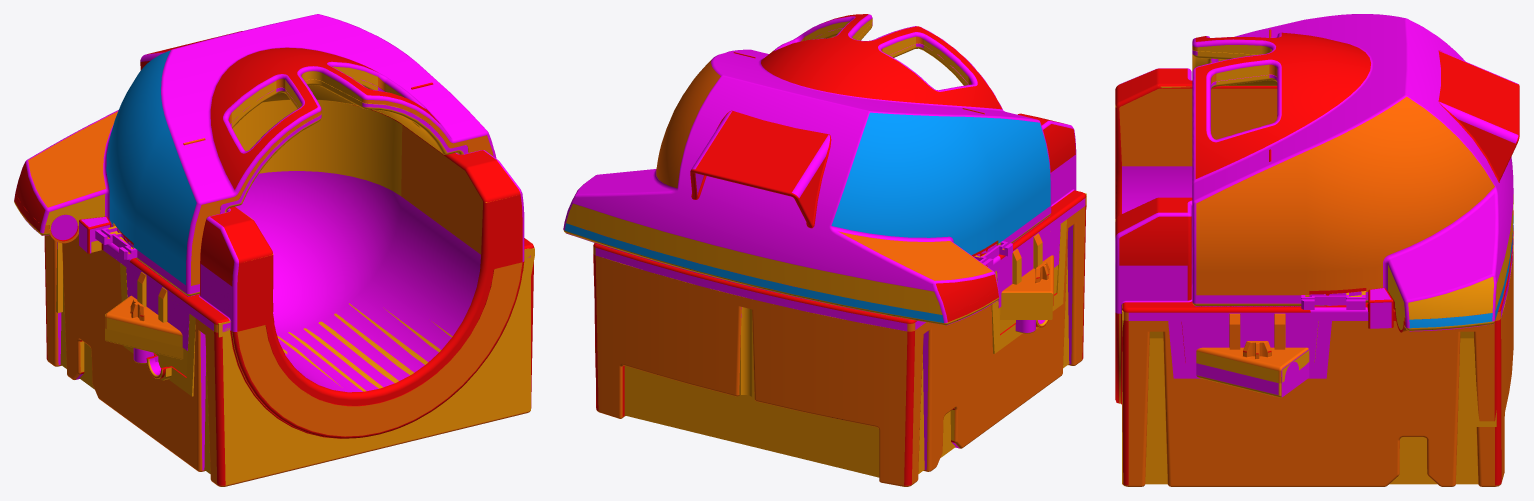
File: siemens32coals.fbx
3 views of the same model, side by side, from view 1: azimuth 30°, elevation 25°; view 2: azimuth 150°, elevation 25°; view 3: azimuth 270°, elevation 25° (orthographic). The views are drawn at different scales.
Visible parts, largest first — view 1: SH0002364383_00002, SH0002364383_00001, SH0002364383_00004, SH0002364383_00003; view 2: SH0002364383_00004, SH0002364383_00001, SH0002364383_00002, SH0002364383_00003; view 3: SH0002364383_00004, SH0002364383_00001, SH0002364383_00002, SH0002364383_00003.
Part boxes in pixels (box(x1,y1,x2,y2)): SH0002364383_00002: box(63, 100, 534, 484); SH0002364383_00001: box(44, 234, 534, 486); SH0002364383_00004: box(15, 14, 496, 296); SH0002364383_00003: box(14, 76, 468, 296); SH0002364383_00004: box(564, 14, 1051, 315); SH0002364383_00001: box(593, 194, 1086, 486); SH0002364383_00002: box(593, 113, 1086, 473); SH0002364383_00003: box(563, 22, 1051, 325); SH0002364383_00004: box(1192, 14, 1519, 329); SH0002364383_00001: box(1115, 236, 1513, 486); SH0002364383_00002: box(1115, 68, 1513, 484); SH0002364383_00003: box(1192, 50, 1513, 332).
Bounding box in the file's own units: 38.31 × 29.77 × 30.45.
